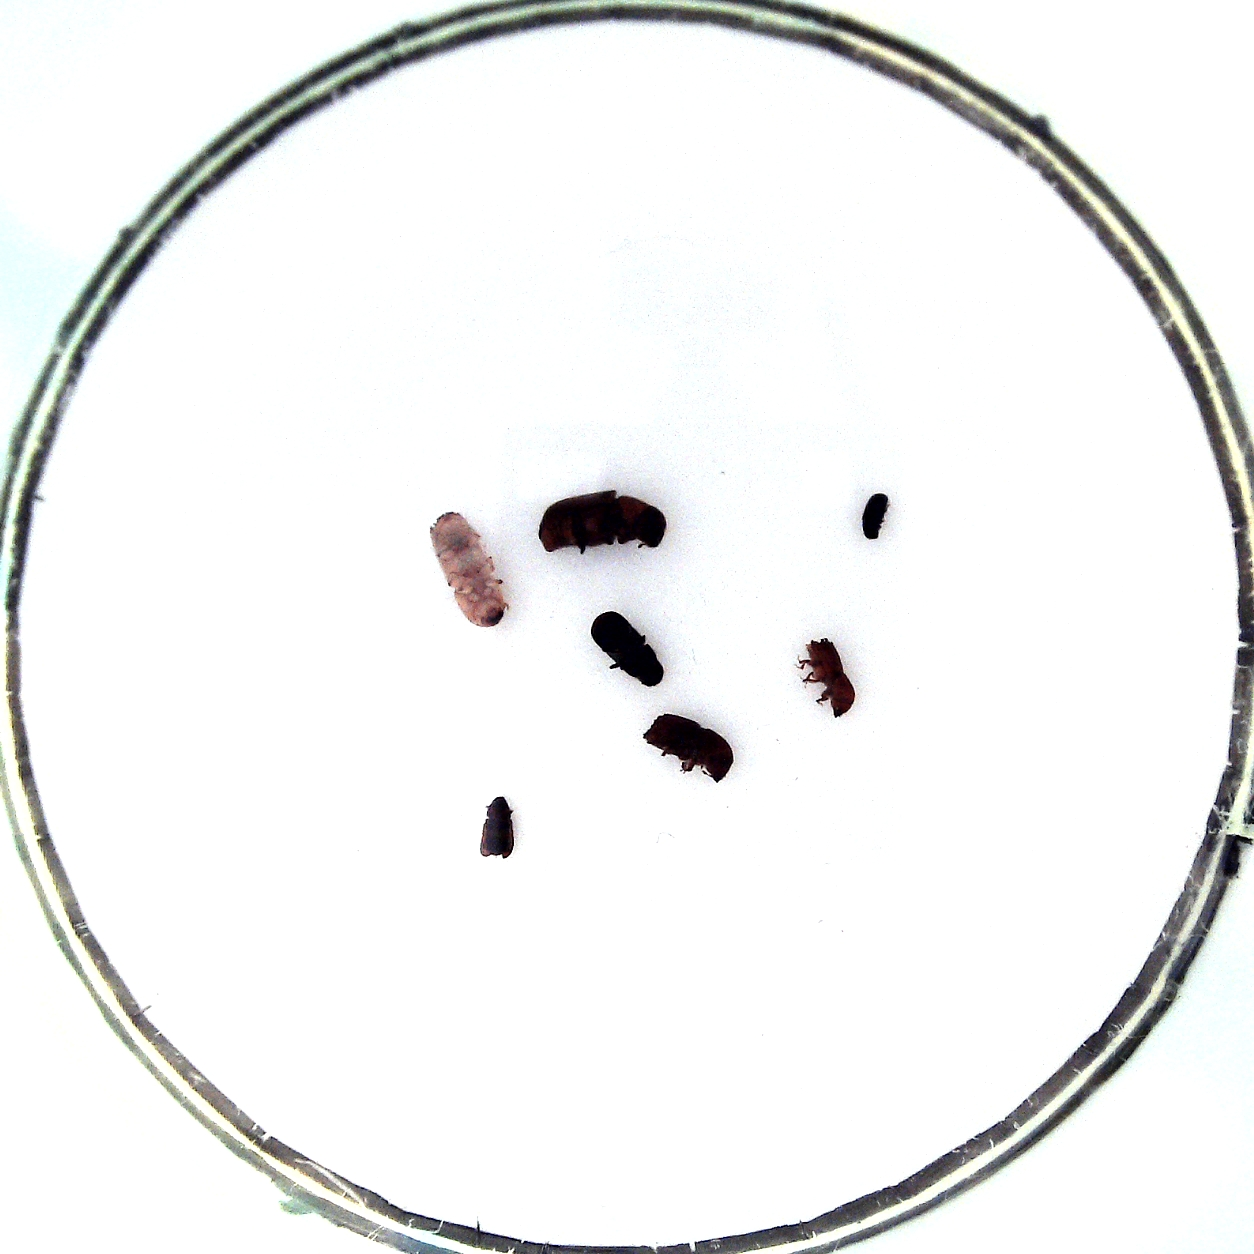Boerner: (429, 511, 506, 627)
Leconte: (537, 490, 666, 552)
acuminatus: (862, 494, 889, 540)
armandi: (589, 610, 664, 686)
coleoptera: (807, 638, 856, 717), (479, 797, 514, 859)
linnaeus: (644, 713, 733, 782)
